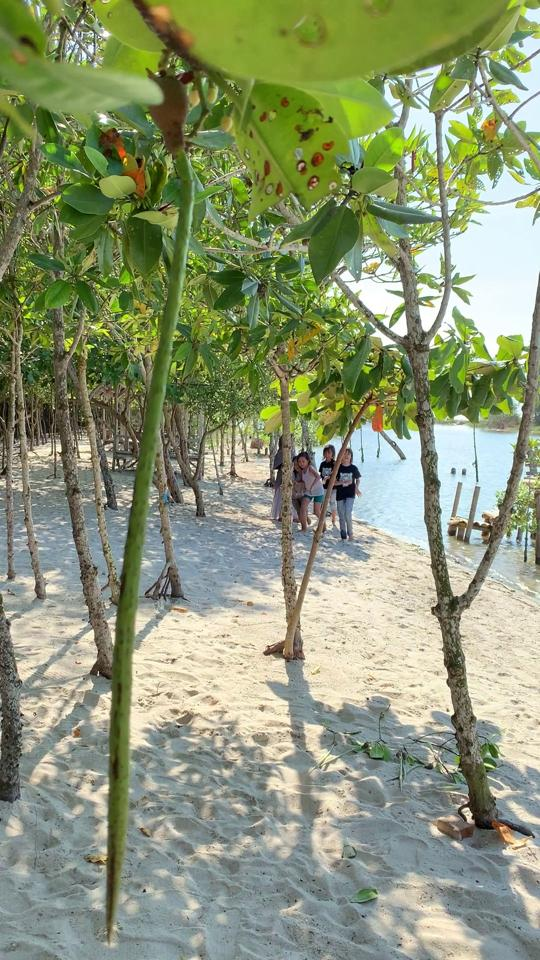mentah: (70, 34, 226, 955)
